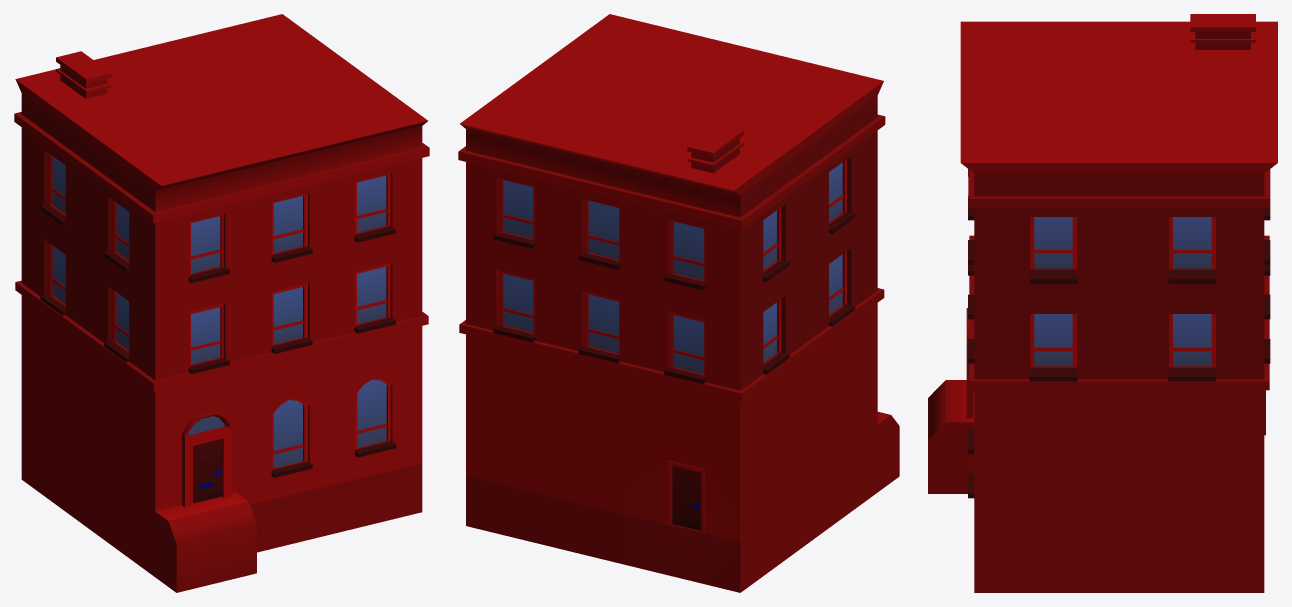
File: buildings-residential-georgianhome_v3.fbx
3 views of the same model, side by side, from view 1: azimuth 30°, elevation 25°; view 2: azimuth 150°, elevation 25°; view 3: azimuth 270°, elevation 25° (orthographic). The views are drawn at different scales.
Parts seen in each view (by area): view 1: GeorgianHome_v3_base, GeorgianHome_v3_windowRefl; view 2: GeorgianHome_v3_base, GeorgianHome_v3_windowRefl; view 3: GeorgianHome_v3_base, GeorgianHome_v3_windowRefl.
Part boxes in pixels (bbox=[...]): GeorgianHome_v3_base: bbox=[14, 14, 429, 592]; GeorgianHome_v3_windowRefl: bbox=[52, 156, 386, 468]; GeorgianHome_v3_base: bbox=[458, 14, 899, 592]; GeorgianHome_v3_windowRefl: bbox=[503, 162, 842, 374]; GeorgianHome_v3_base: bbox=[928, 14, 1277, 592]; GeorgianHome_v3_windowRefl: bbox=[1034, 217, 1211, 366].
Bounding box in the file's own units: 11.16 × 16.12 × 11.27.
